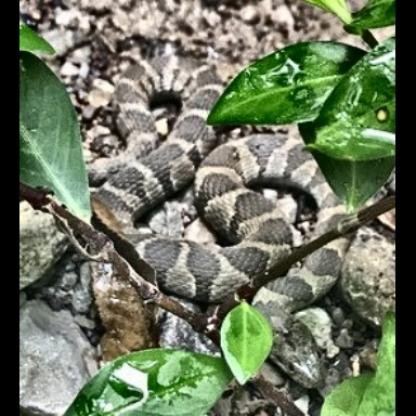Snake: (87, 7, 362, 396)
